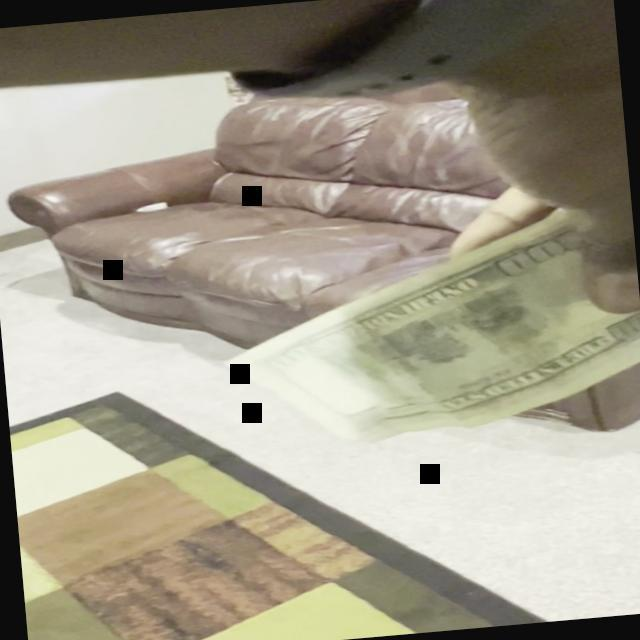hundred: (216, 198, 640, 453)
